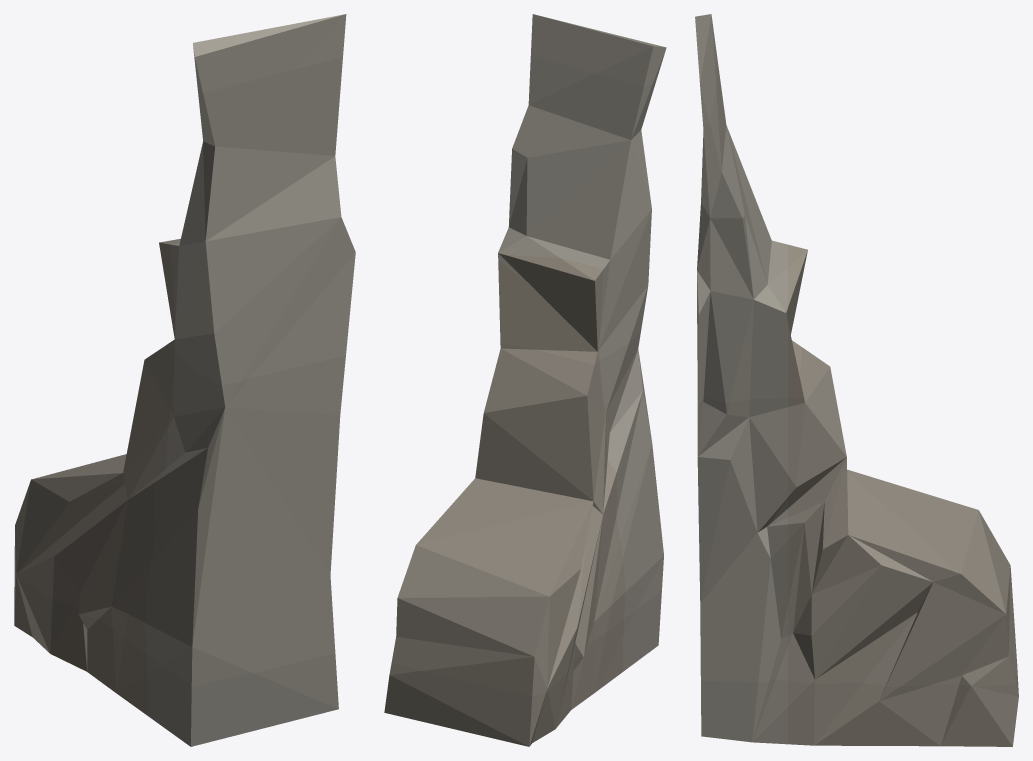
Rendered from YN_PointyRock3.fbx.
3 renders of one model, left to right at view 1: azimuth 30°, elevation 25°; view 2: azimuth 150°, elevation 25°; view 3: azimuth 270°, elevation 25°, orthographic. The views are drawn at different scales.
Visible parts, largest first — view 1: PointyRock3; view 2: PointyRock3; view 3: PointyRock3.
Boxes of the visible parts, left/top/right/bottom form: PointyRock3: left=14, top=14, right=355, bottom=746; PointyRock3: left=384, top=14, right=666, bottom=746; PointyRock3: left=695, top=14, right=1018, bottom=746.
Bounding box in the file's own units: 1.95 × 7.17 × 3.17.
